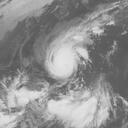cyclone: (43, 32, 83, 80)
